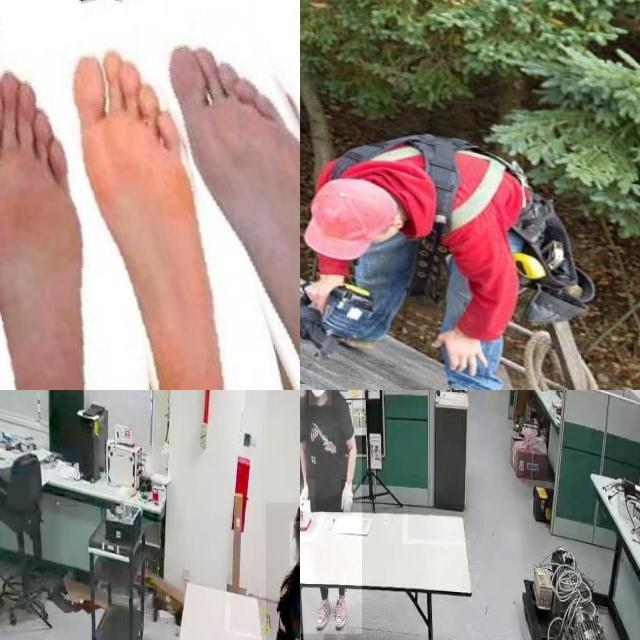Barefoots: (49, 21, 274, 390), (155, 0, 300, 390), (0, 35, 149, 390)
Harness: (332, 134, 594, 292)
face_mask: (289, 521, 300, 565), (309, 390, 332, 406)
hand_glove: (300, 479, 315, 512), (342, 479, 354, 516)
head_nohelmet: (294, 501, 300, 524)
person: (300, 390, 362, 634), (266, 502, 300, 640)
shoes: (314, 592, 331, 630), (334, 595, 348, 633)
